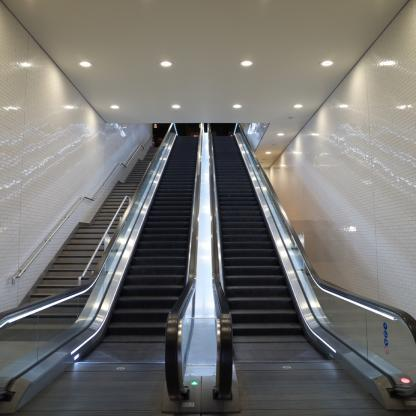stair: (208, 124, 303, 354), (141, 127, 200, 339)
